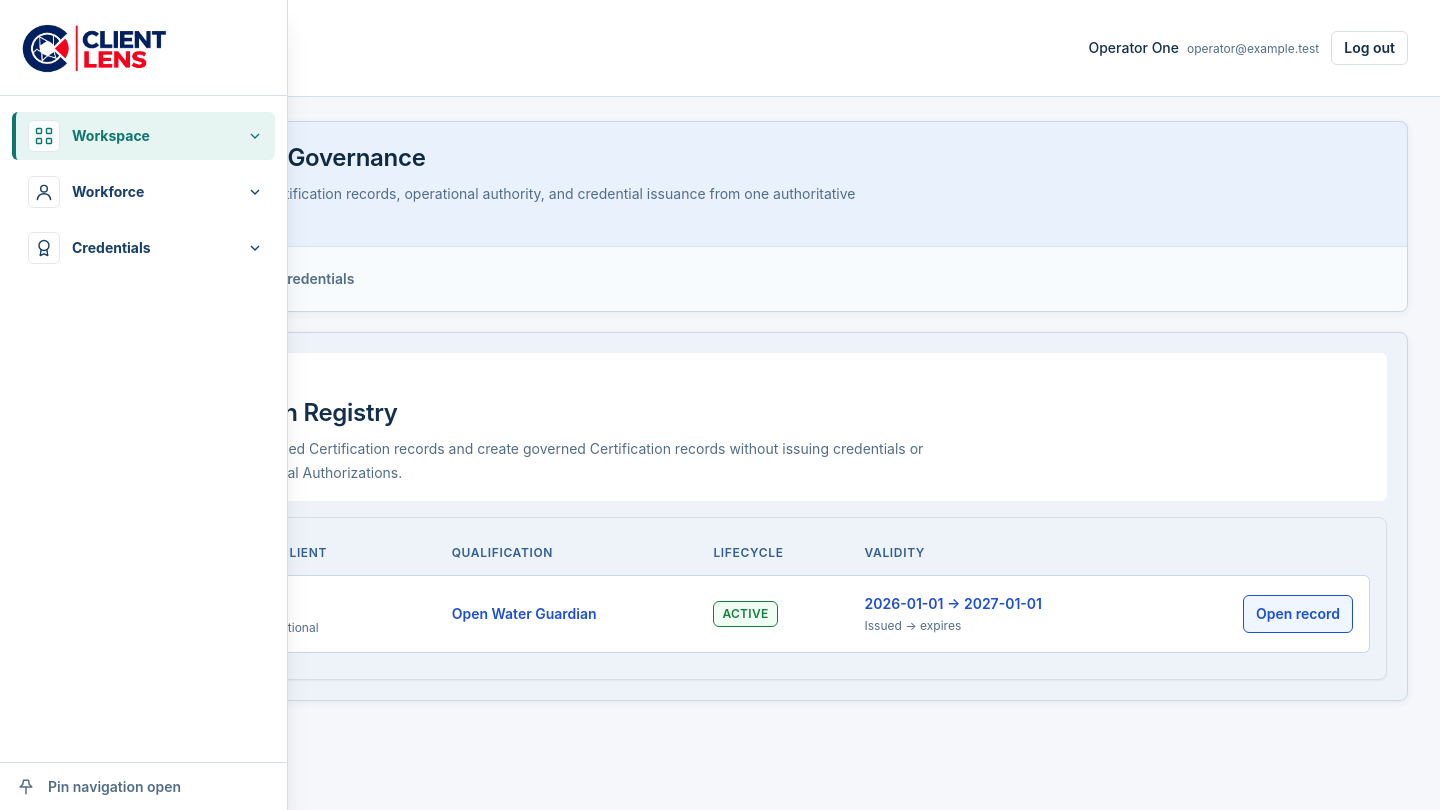
Scenario: Certification workspace frontend › renders multiple Operational Authorization records without collapsing retained history
Click the button with aria-label "View Certificate Details" at (1298, 614), box [1243,595,1353,633]
(page scrolled)
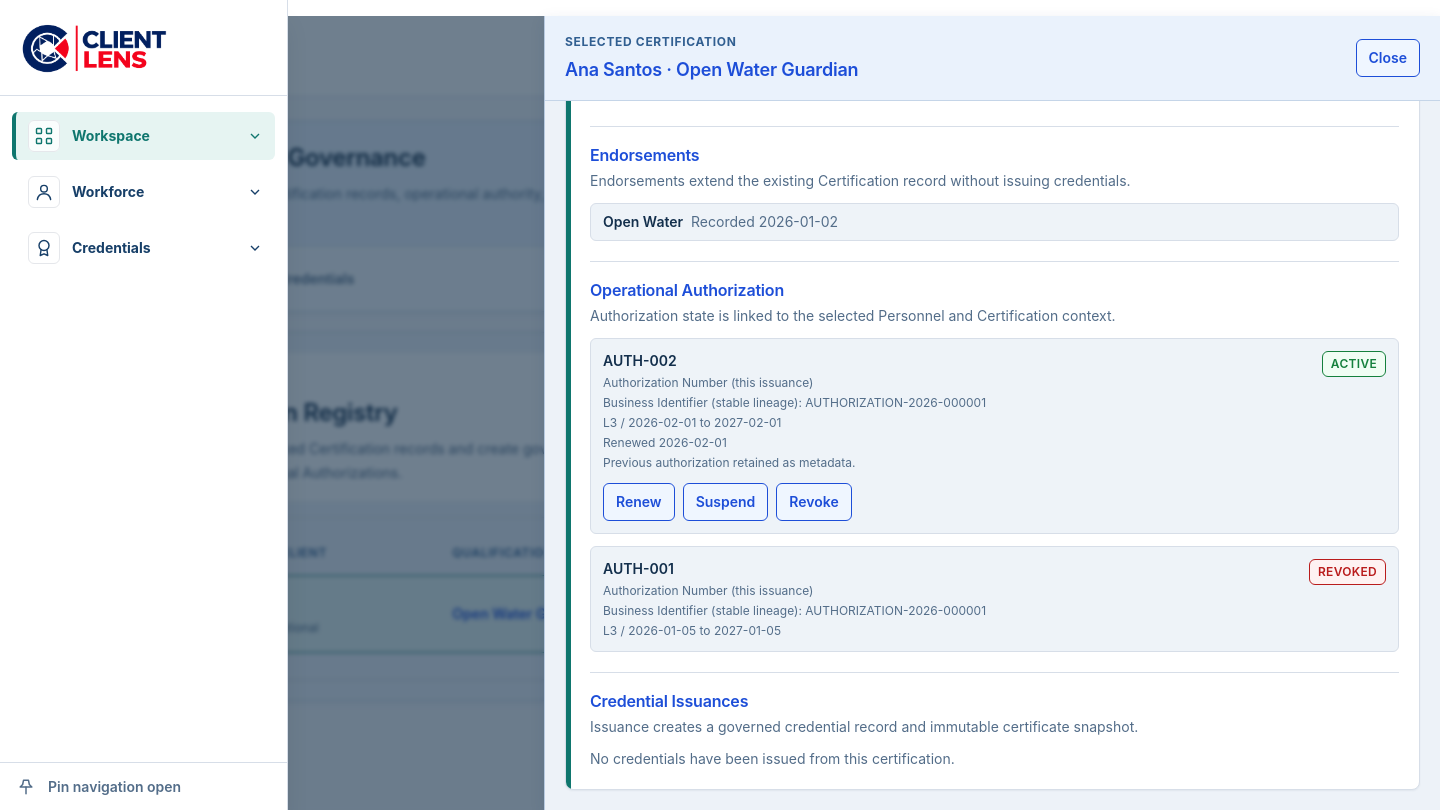
Expected: the text "AUTH-002" is shown, [603,352,677,369]
Expected: the text "AUTH-001" is shown, [603,560,674,577]
Expected: the text "Previous authorization retained as metadata." is shown, [603,455,856,470]
